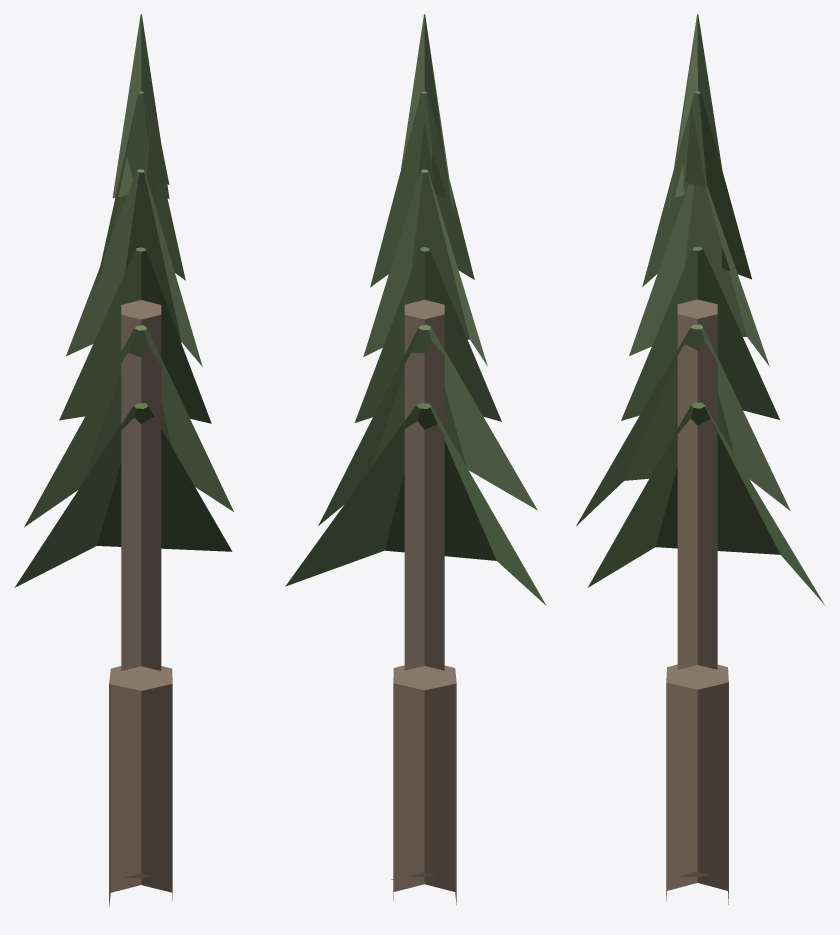
File: shu.luoye__summer.glb
3 views of the same model, side by side, from view 1: azimuth 30°, elevation 25°; view 2: azimuth 150°, elevation 25°; view 3: azimuth 270°, elevation 25° (orthographic).
Visible parts, largest first — view 1: shu.luoye__summer; view 2: shu.luoye__summer; view 3: shu.luoye__summer.
Part boxes in pixels (box(x1,y1,x2,y2)): shu.luoye__summer: box(14, 14, 233, 906); shu.luoye__summer: box(285, 14, 546, 904); shu.luoye__summer: box(576, 14, 824, 904).
Bounding box in the file's own units: 4.86 × 18.97 × 4.86.
